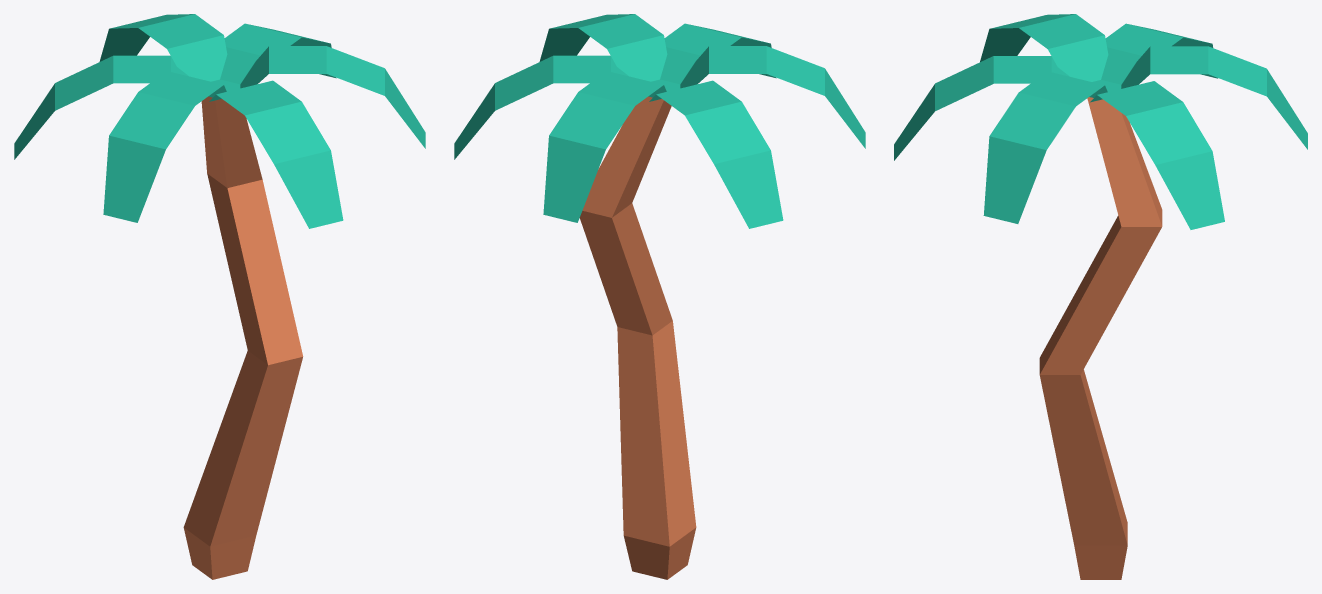
The model's file is tree-palm-bend.glb.
3 renders of one model, left to right at view 1: azimuth 30°, elevation 25°; view 2: azimuth 150°, elevation 25°; view 3: azimuth 270°, elevation 25°, orthographic.
Visible parts, largest first — view 1: tree_palmBend; view 2: tree_palmBend; view 3: tree_palmBend.
Boxes of the visible parts, bbox=[...] form: tree_palmBend: bbox=[14, 14, 425, 579]; tree_palmBend: bbox=[454, 14, 865, 579]; tree_palmBend: bbox=[894, 14, 1307, 579].
Size of the model in its own units: 0.9355 by 1.38 by 1.01.
